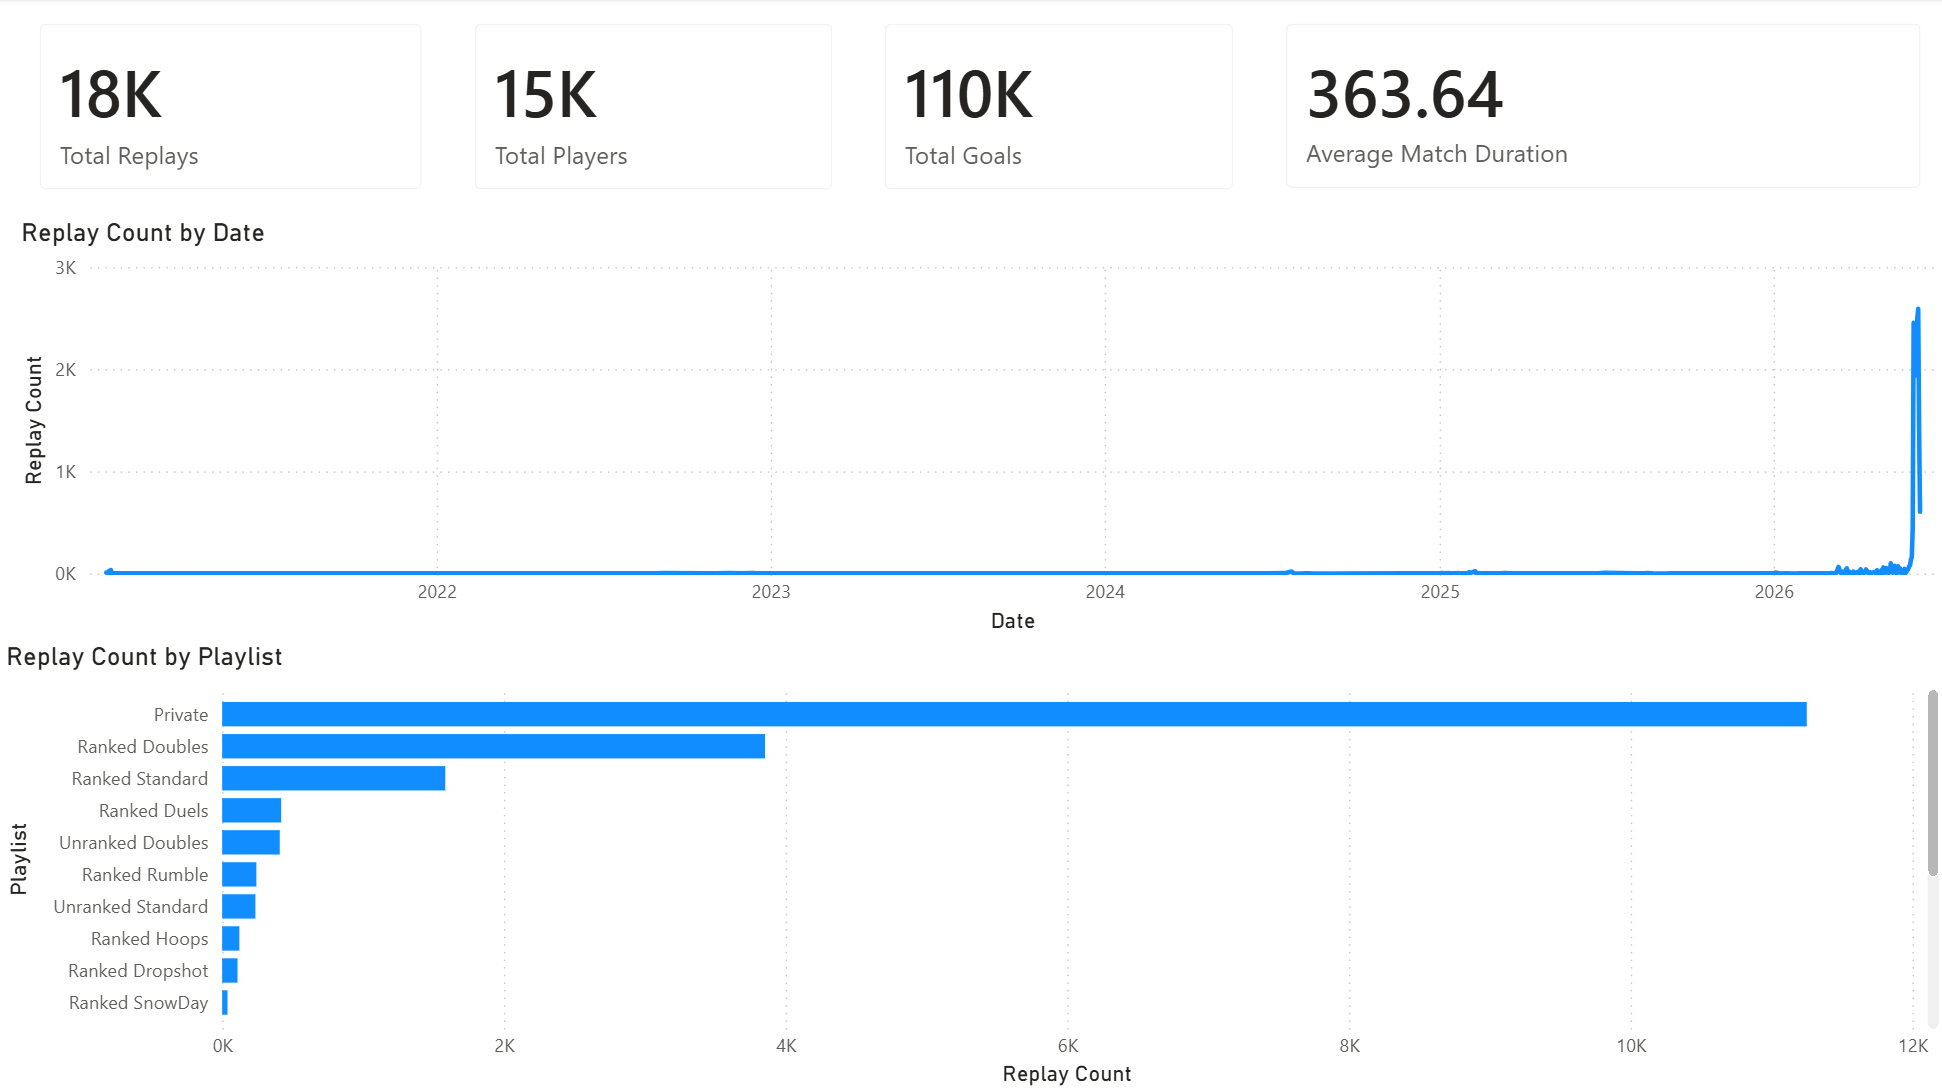

Layout of this report page (visuals, bound fields, positions):
{"tool":"powerbi","page":{"name":"Overview Dashboard","canvas":[1280,720],"ordinal":0},"visuals":[{"type":"cardVisual","fields":{"Data":["fact_Replays.Total Replays"]},"box":[9.9,0,285.8,143.7],"z":0},{"type":"cardVisual","fields":{"Data":["dim_Players.Total Players","dim_Players.Total Players"]},"box":[295.6,0,269.3,143.7],"z":1000},{"type":"cardVisual","fields":{"Data":["fact_Replays.Total Goals"]},"box":[565,0,263.6,143.7],"z":2000},{"type":"cardVisual","fields":{"Data":["fact_Replays.Average Match Duration"]},"box":[828.6,0,451.6,142.9],"z":3000},{"type":"lineChart","title":"Replay Count by Date","fields":{"Category":["dim_Dates.date_id"],"Y":["fact_Replays.Replay Count"]},"box":[9.9,143.7,1270.4,278.4],"z":4000},{"type":"clusteredBarChart","title":"Replay Count by Playlist","fields":{"Category":["dim_Playlists.playlist_name"],"Y":["fact_Replays.Replay Count"]},"box":[0,422.1,1280.2,298.1],"z":5000}]}

Visuals, with their boxes in screenshot pixels (x1, y1, x2, y2), scaled from the page's 1280x720 canvas onto the 1942x1091 screenshot:
cardVisual - fact_Replays.Total Replays: x1=15 y1=0 x2=449 y2=218
cardVisual - dim_Players.Total Players x dim_Players.Total Players: x1=448 y1=0 x2=857 y2=218
cardVisual - fact_Replays.Total Goals: x1=857 y1=0 x2=1257 y2=218
cardVisual - fact_Replays.Average Match Duration: x1=1257 y1=0 x2=1941 y2=217
"Replay Count by Date" lineChart: x1=15 y1=218 x2=1941 y2=640
"Replay Count by Playlist" clusteredBarChart: x1=0 y1=640 x2=1941 y2=1090
